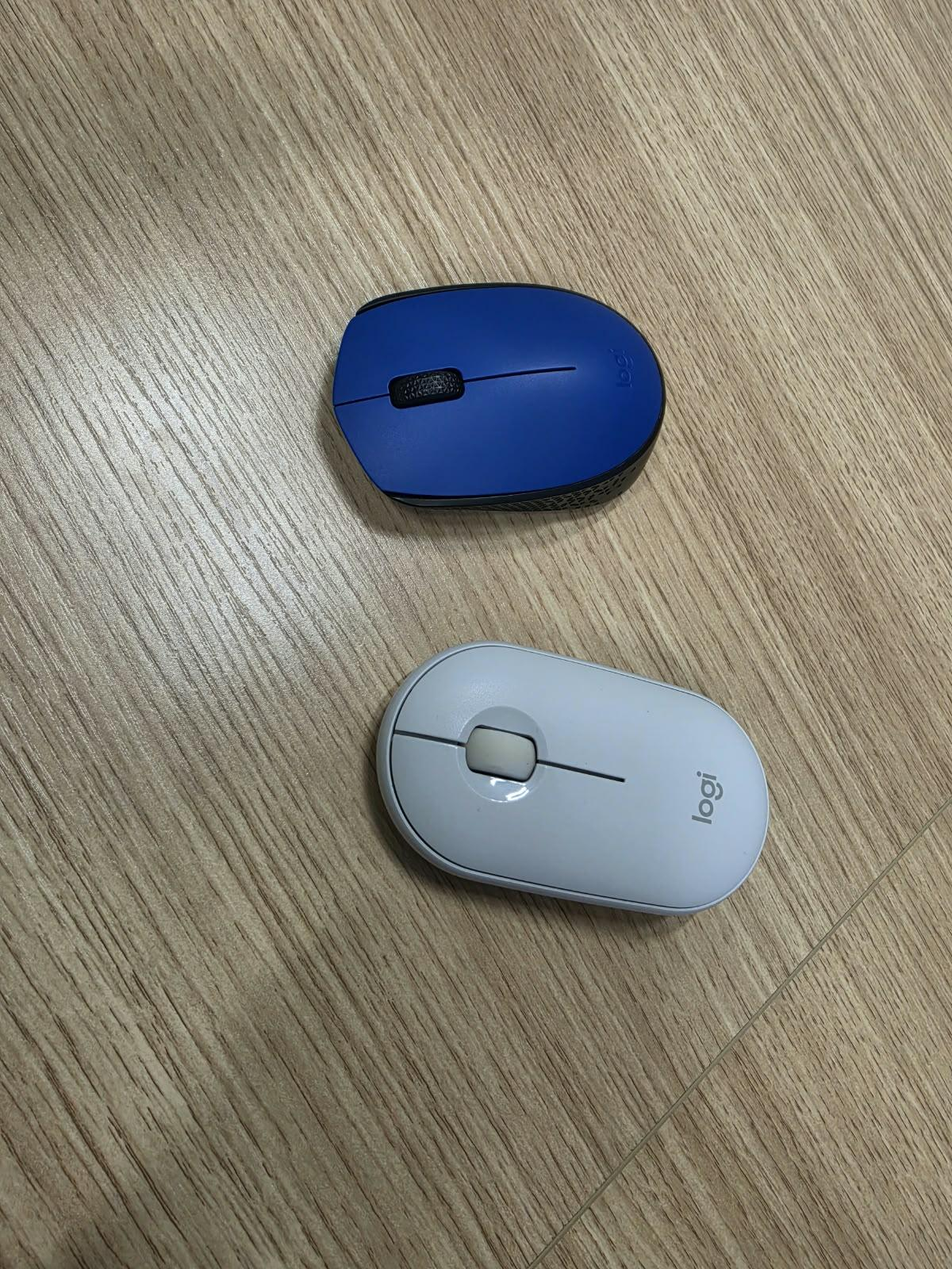mouse: (374, 641, 770, 919), (332, 282, 667, 512)
